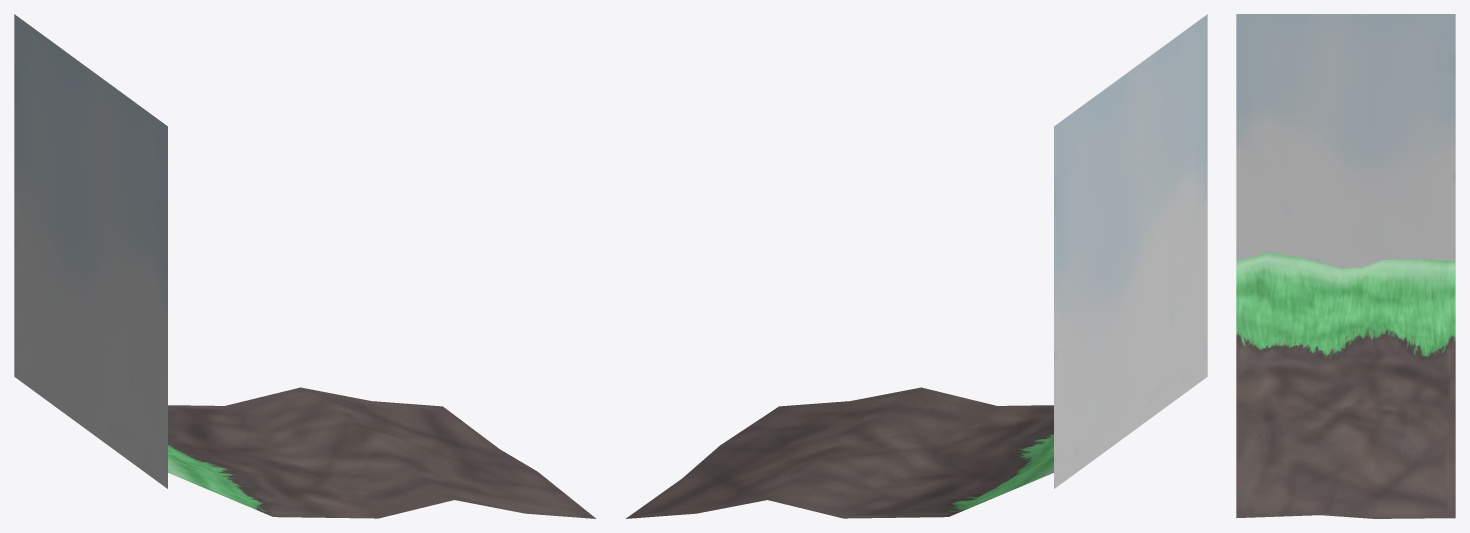
Rendered from Skybox.fbx.
The picture shows the model from 3 angles, left to right: view 1: azimuth 30°, elevation 25°; view 2: azimuth 150°, elevation 25°; view 3: azimuth 270°, elevation 25°; orthographic projection. The views are drawn at different scales.
Visible parts, largest first — view 1: Plane; view 2: Plane; view 3: Plane.
Part boxes in pixels (left/top/right/bottom): Plane: left=14, top=14, right=595, bottom=518; Plane: left=626, top=14, right=1207, bottom=518; Plane: left=1236, top=14, right=1455, bottom=518.
Bounding box in the file's own units: 11.66 × 12.95 × 7.25.
